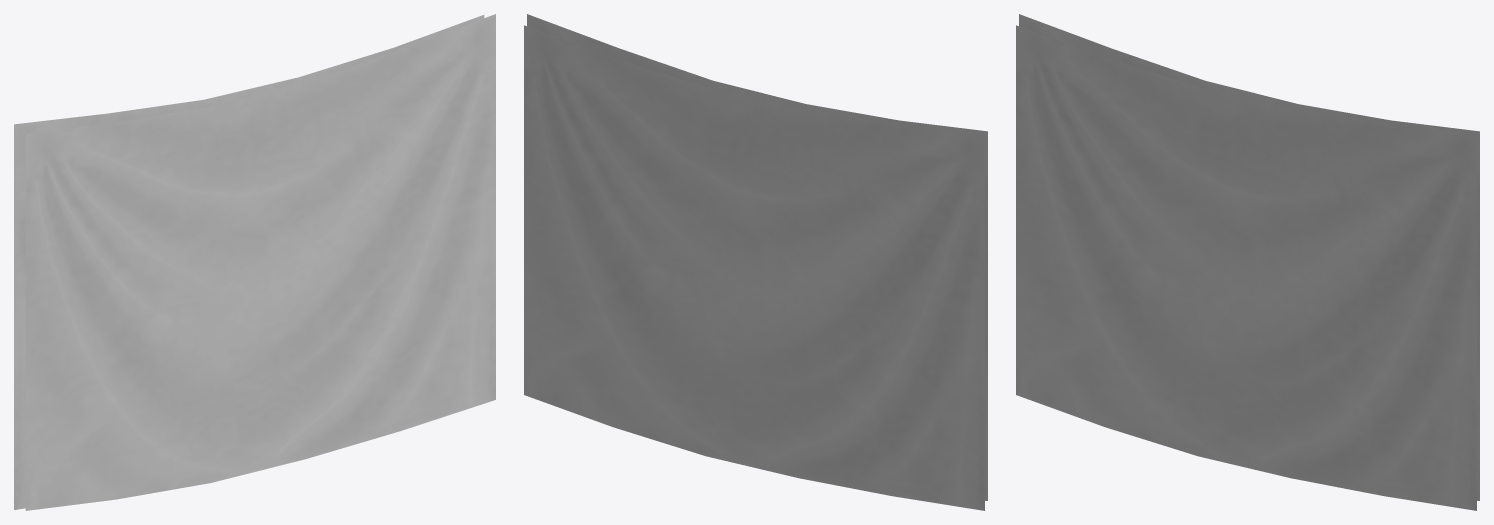
File: SM_Fabric.fbx
3 renders of one model, left to right at view 1: azimuth 30°, elevation 25°; view 2: azimuth 150°, elevation 25°; view 3: azimuth 330°, elevation 25°, orthographic. The views are drawn at different scales.
Visible parts, largest first — view 1: Mat_Fabric_01_1 2; view 2: Mat_Fabric_01_1 2; view 3: Mat_Fabric_01_1 2.
Part boxes in pixels (x1,y1,x2,y2): Mat_Fabric_01_1 2: (14, 14, 495, 510); Mat_Fabric_01_1 2: (524, 14, 987, 510); Mat_Fabric_01_1 2: (1016, 14, 1479, 510).
Size of the model in its own units: 2.13 by 1.71 by 0.0575.
Materials: 1 (1 with a texture image).
